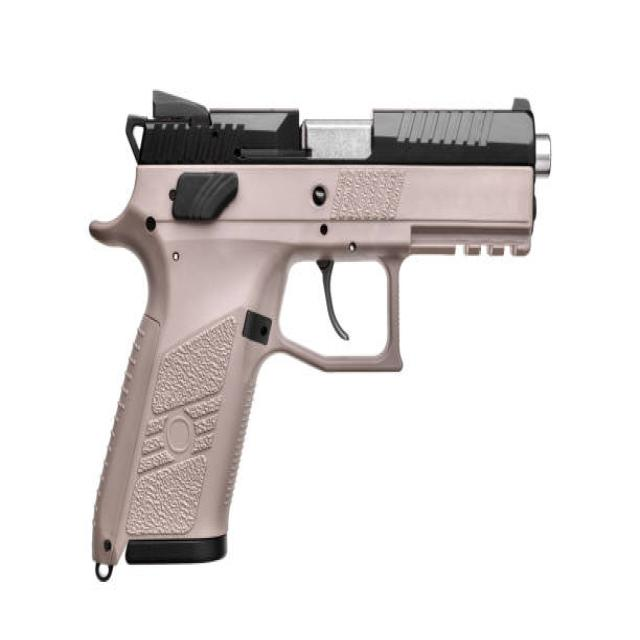pistol: (85, 86, 558, 592)
